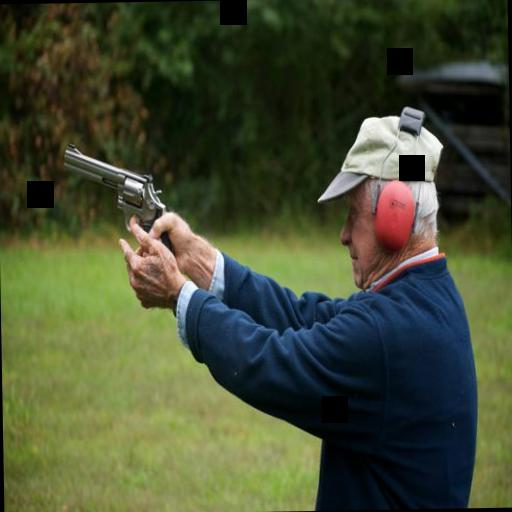Handgun: (59, 136, 183, 320)
